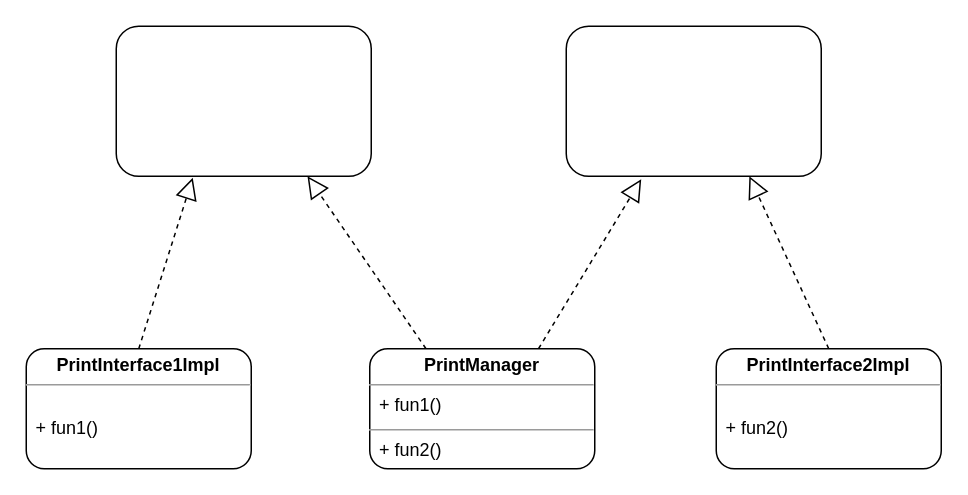
Image size: 968x495. Some labels were removed from this diagram. The shapes that lost their labels are listed below. From the top down, each one's box as (x1, y1, x2, y2) in pixels, then its label:
(115, 25, 371, 176): <<Interface>> PrintInterface1 + fun1()
(565, 25, 821, 176): <<Interface>> PrintInterface2 + fun2()
